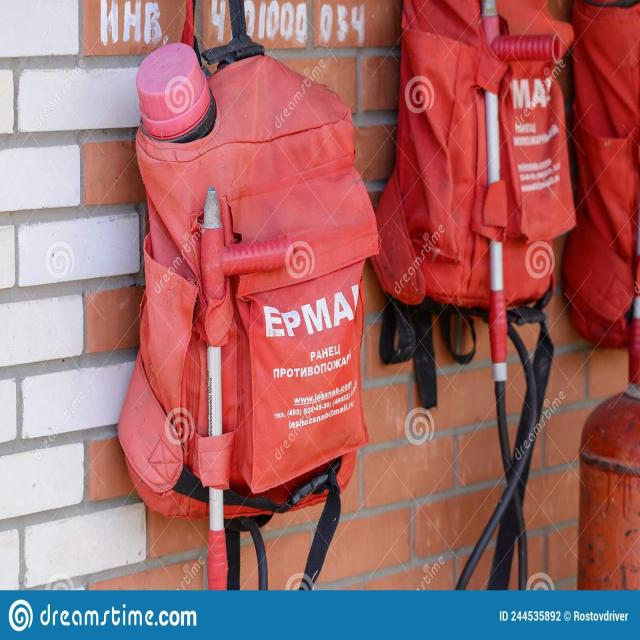fire_extinguisher: (565, 312, 640, 594)
